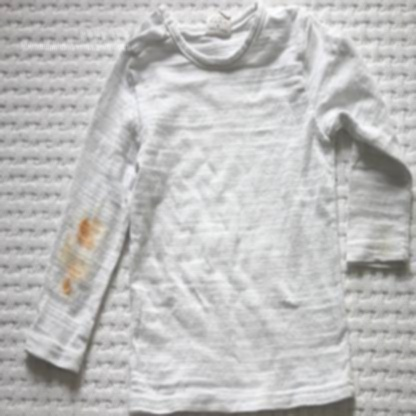kimchi: (51, 210, 106, 300), (74, 216, 96, 243), (53, 273, 71, 299)
